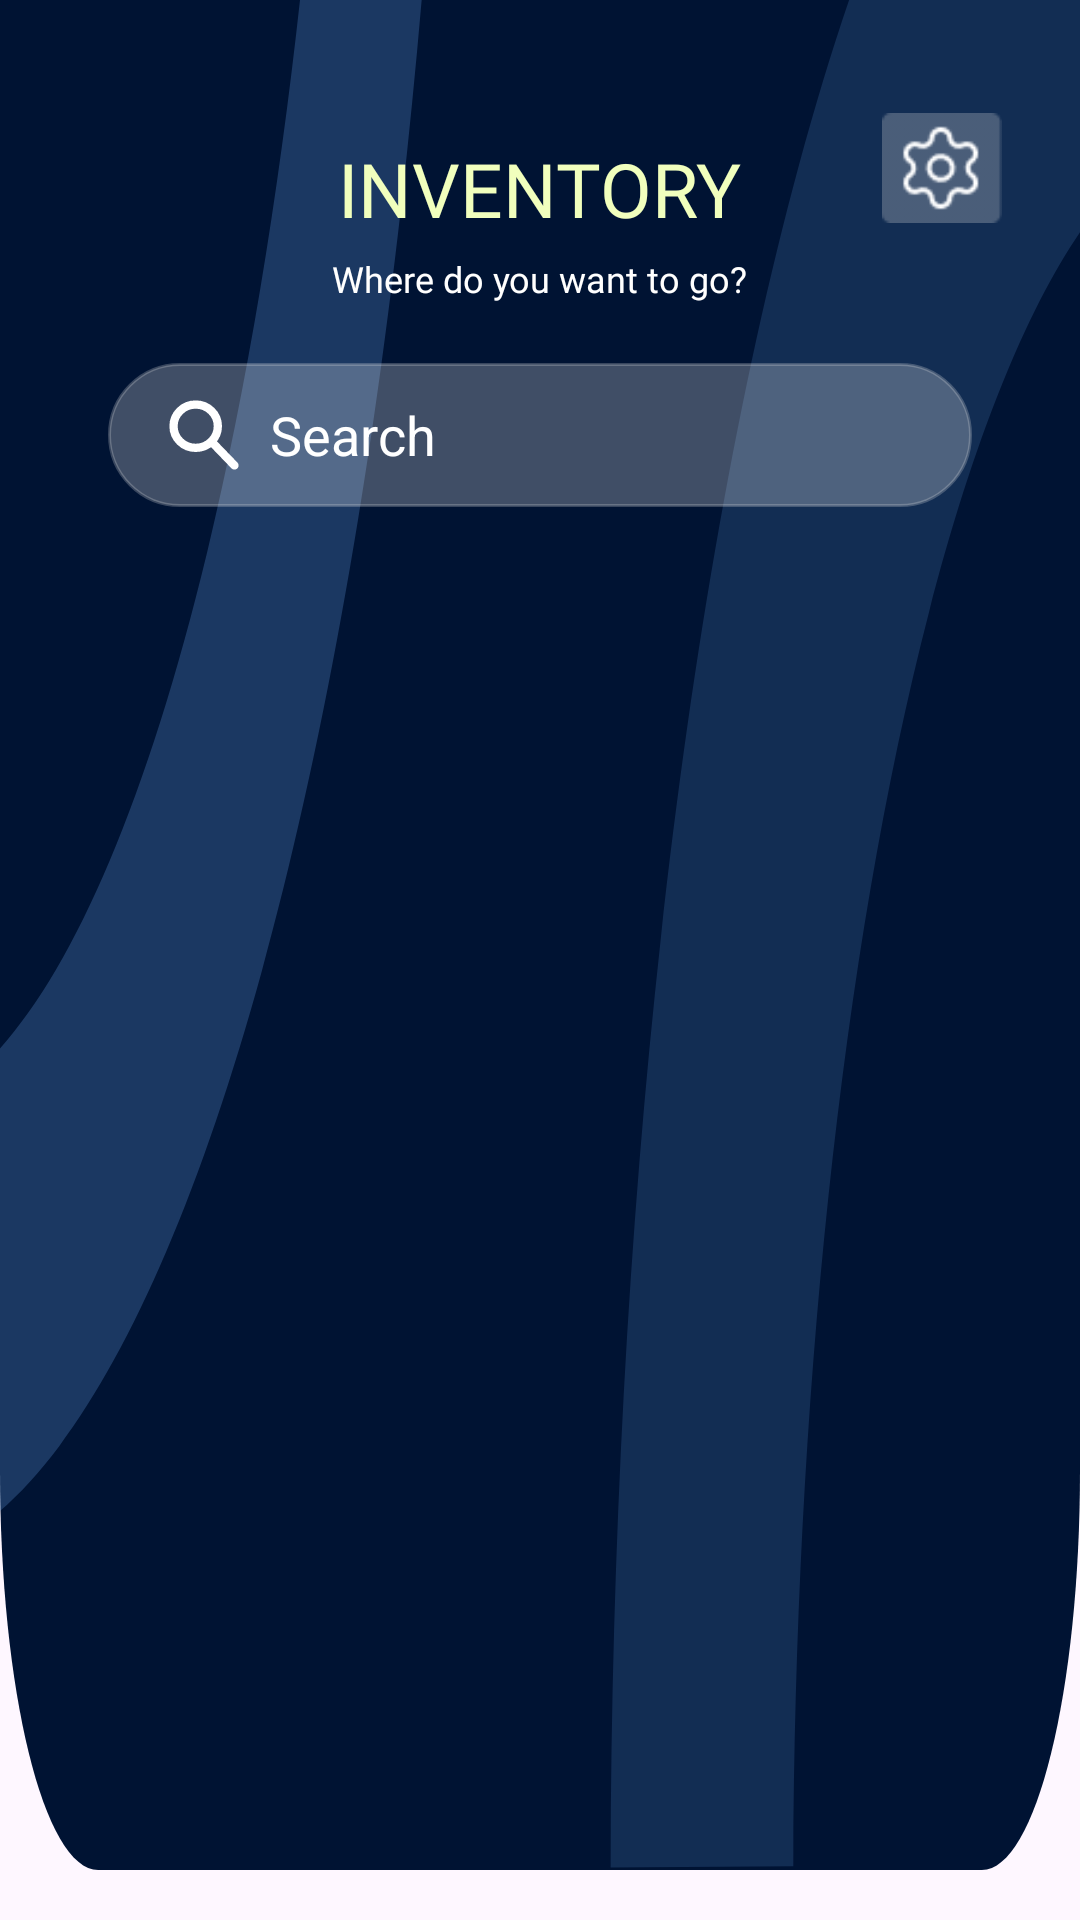

Icons on this 1080w x 1920h Android screen, each with its box as {"x1": x1, "y1": y1, "x2": x2, "y2": y2}:
setting: {"x1": 882, "y1": 113, "x2": 1001, "y2": 223}
